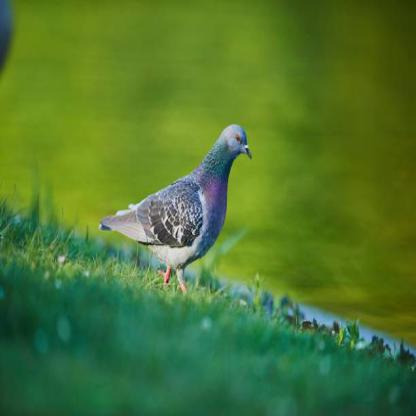Flying Rat: (99, 120, 262, 298)
